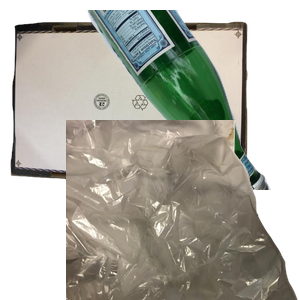cardboard: (10, 19, 250, 199)
glass: (75, 10, 300, 190)
plastic: (74, 156, 280, 300)
trash: (66, 120, 300, 300)
